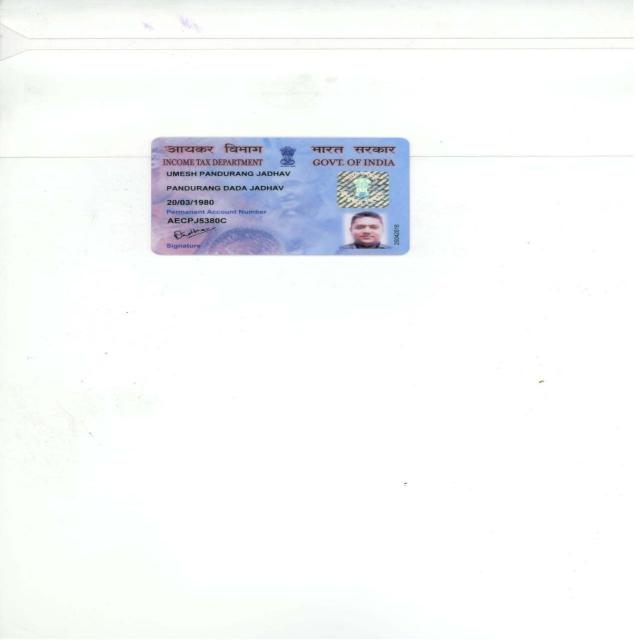pan_card: (147, 137, 405, 255)
